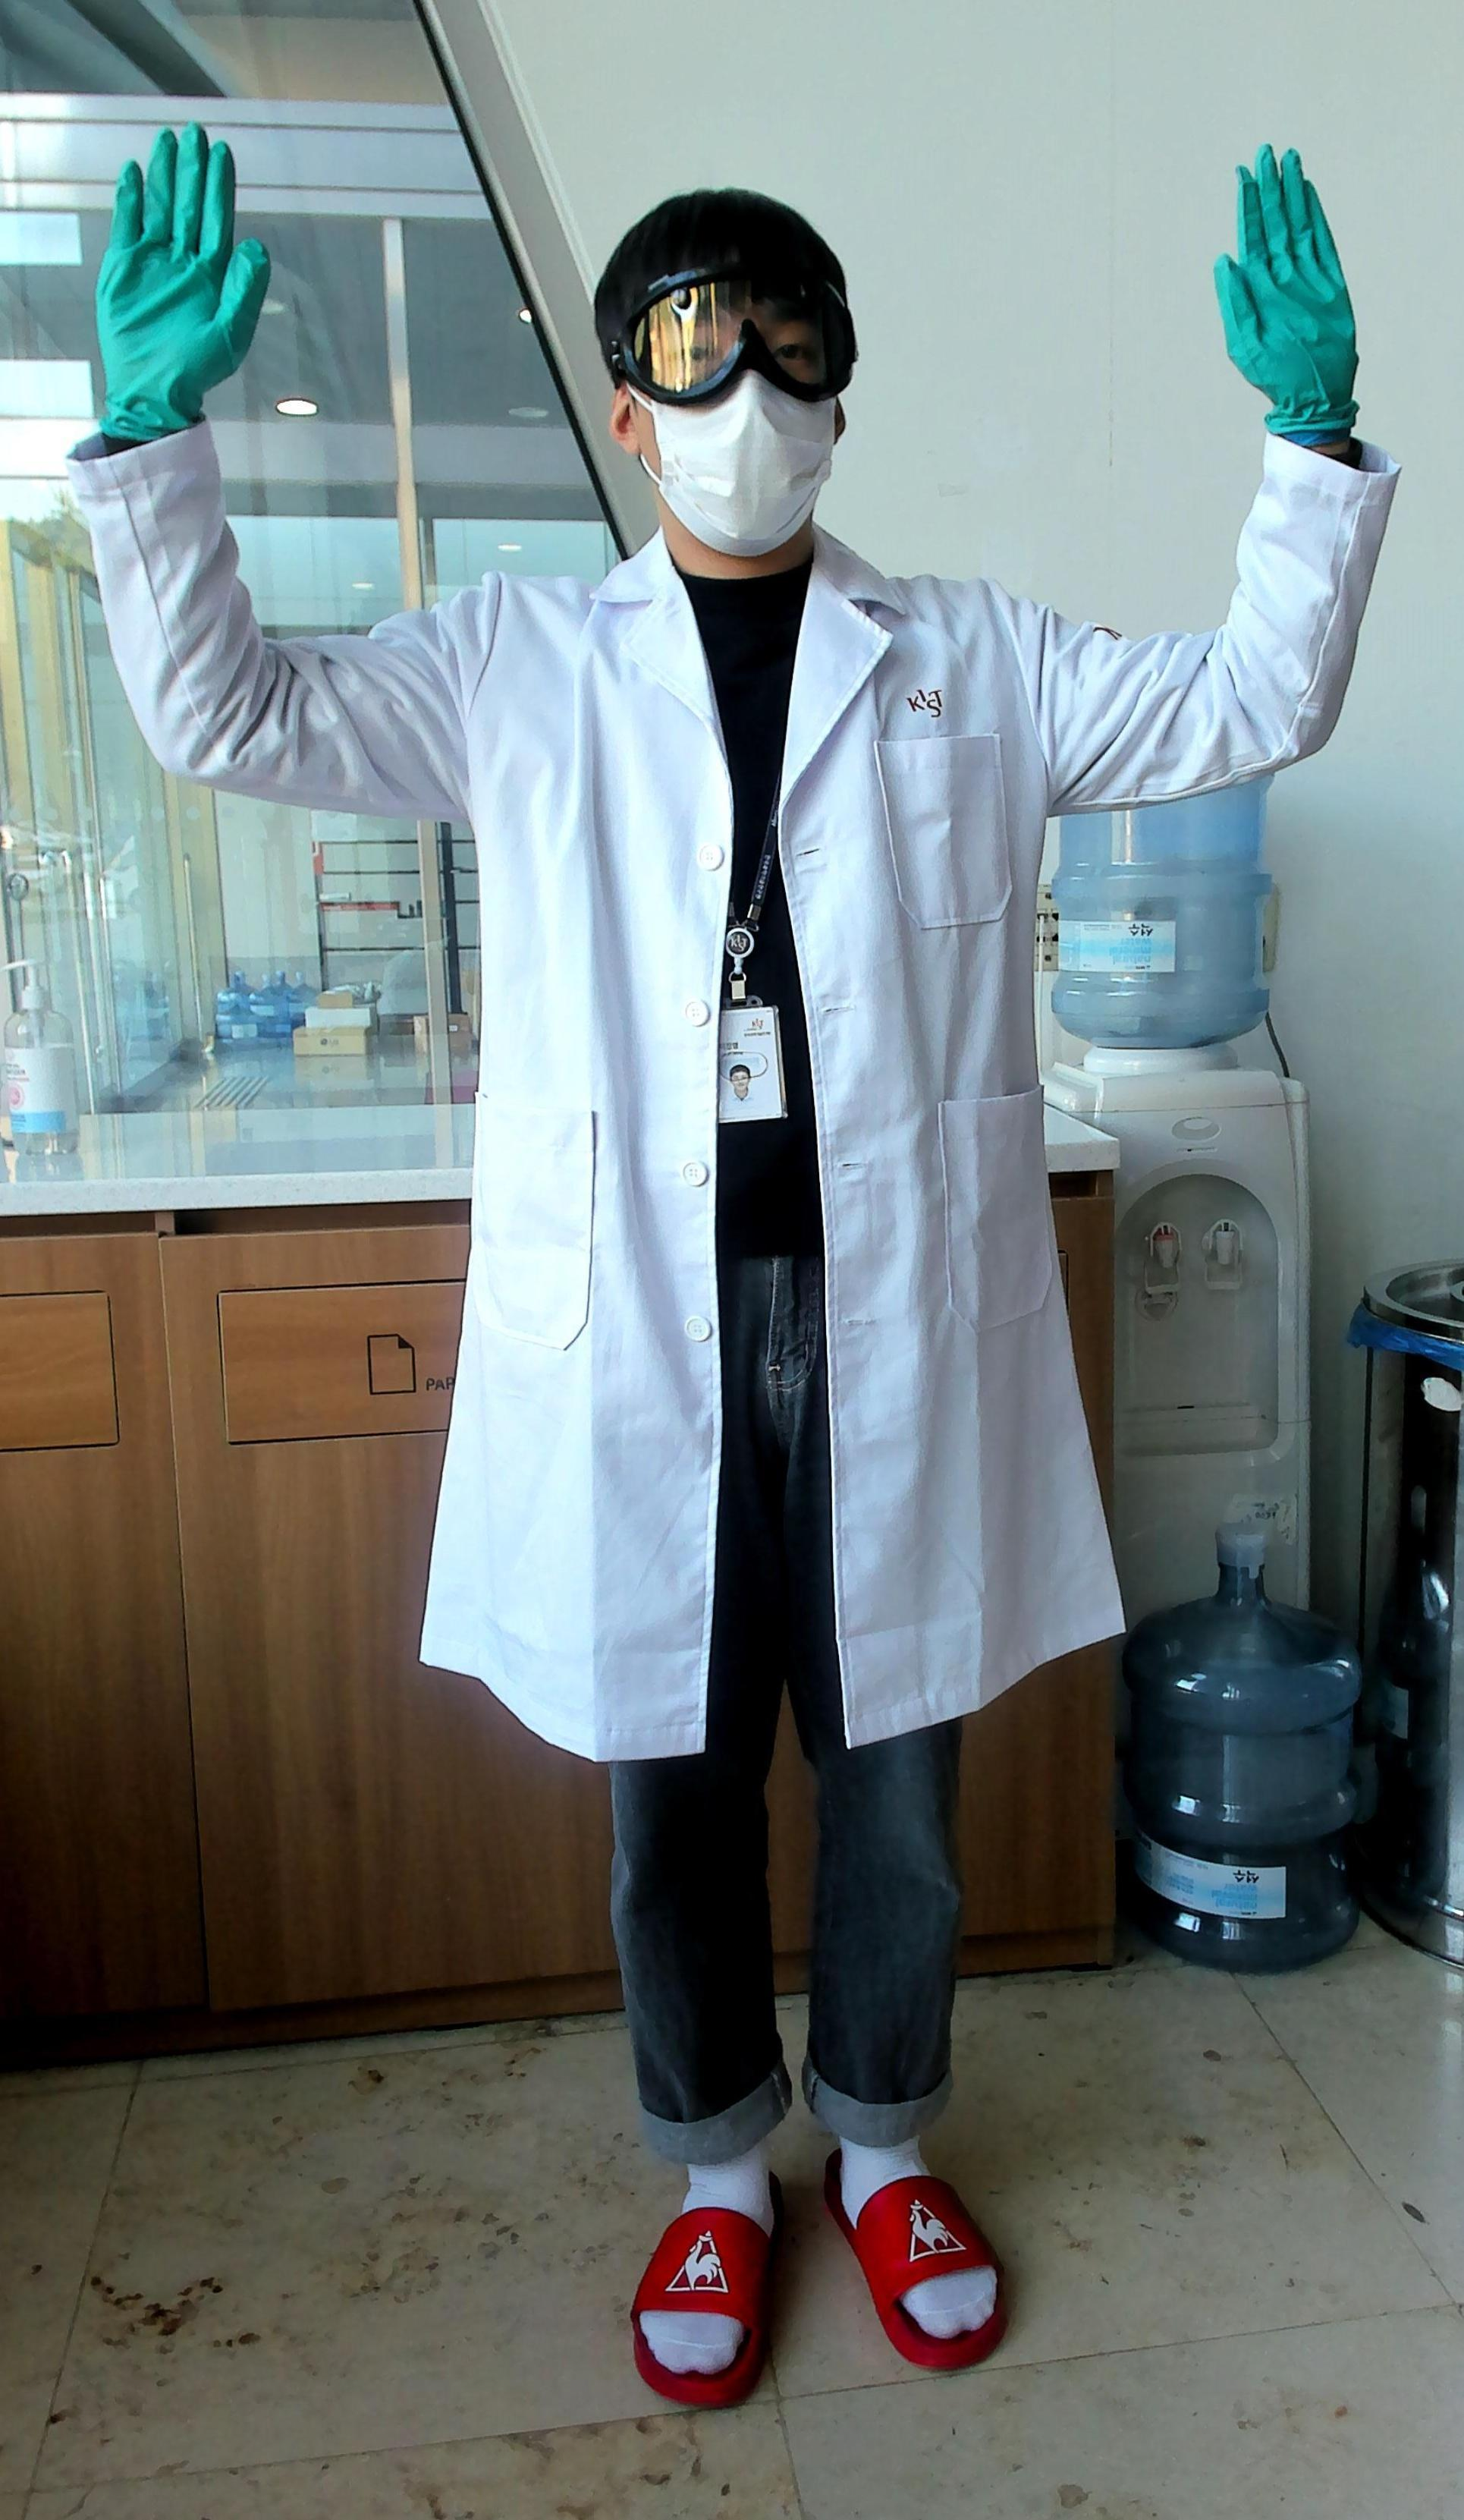lab_coat: (108, 525, 1295, 1717)
